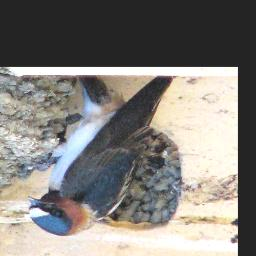Swallow: (28, 77, 184, 238)
